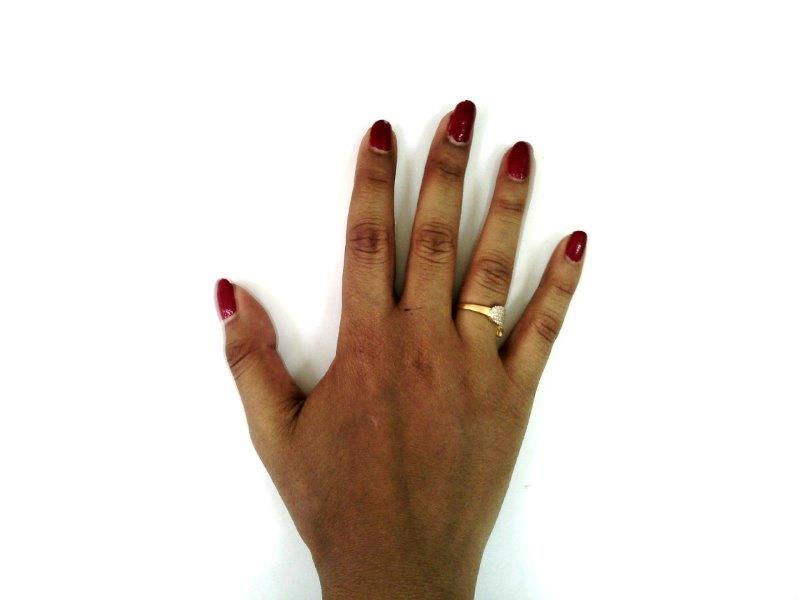hand: (216, 99, 588, 589)
